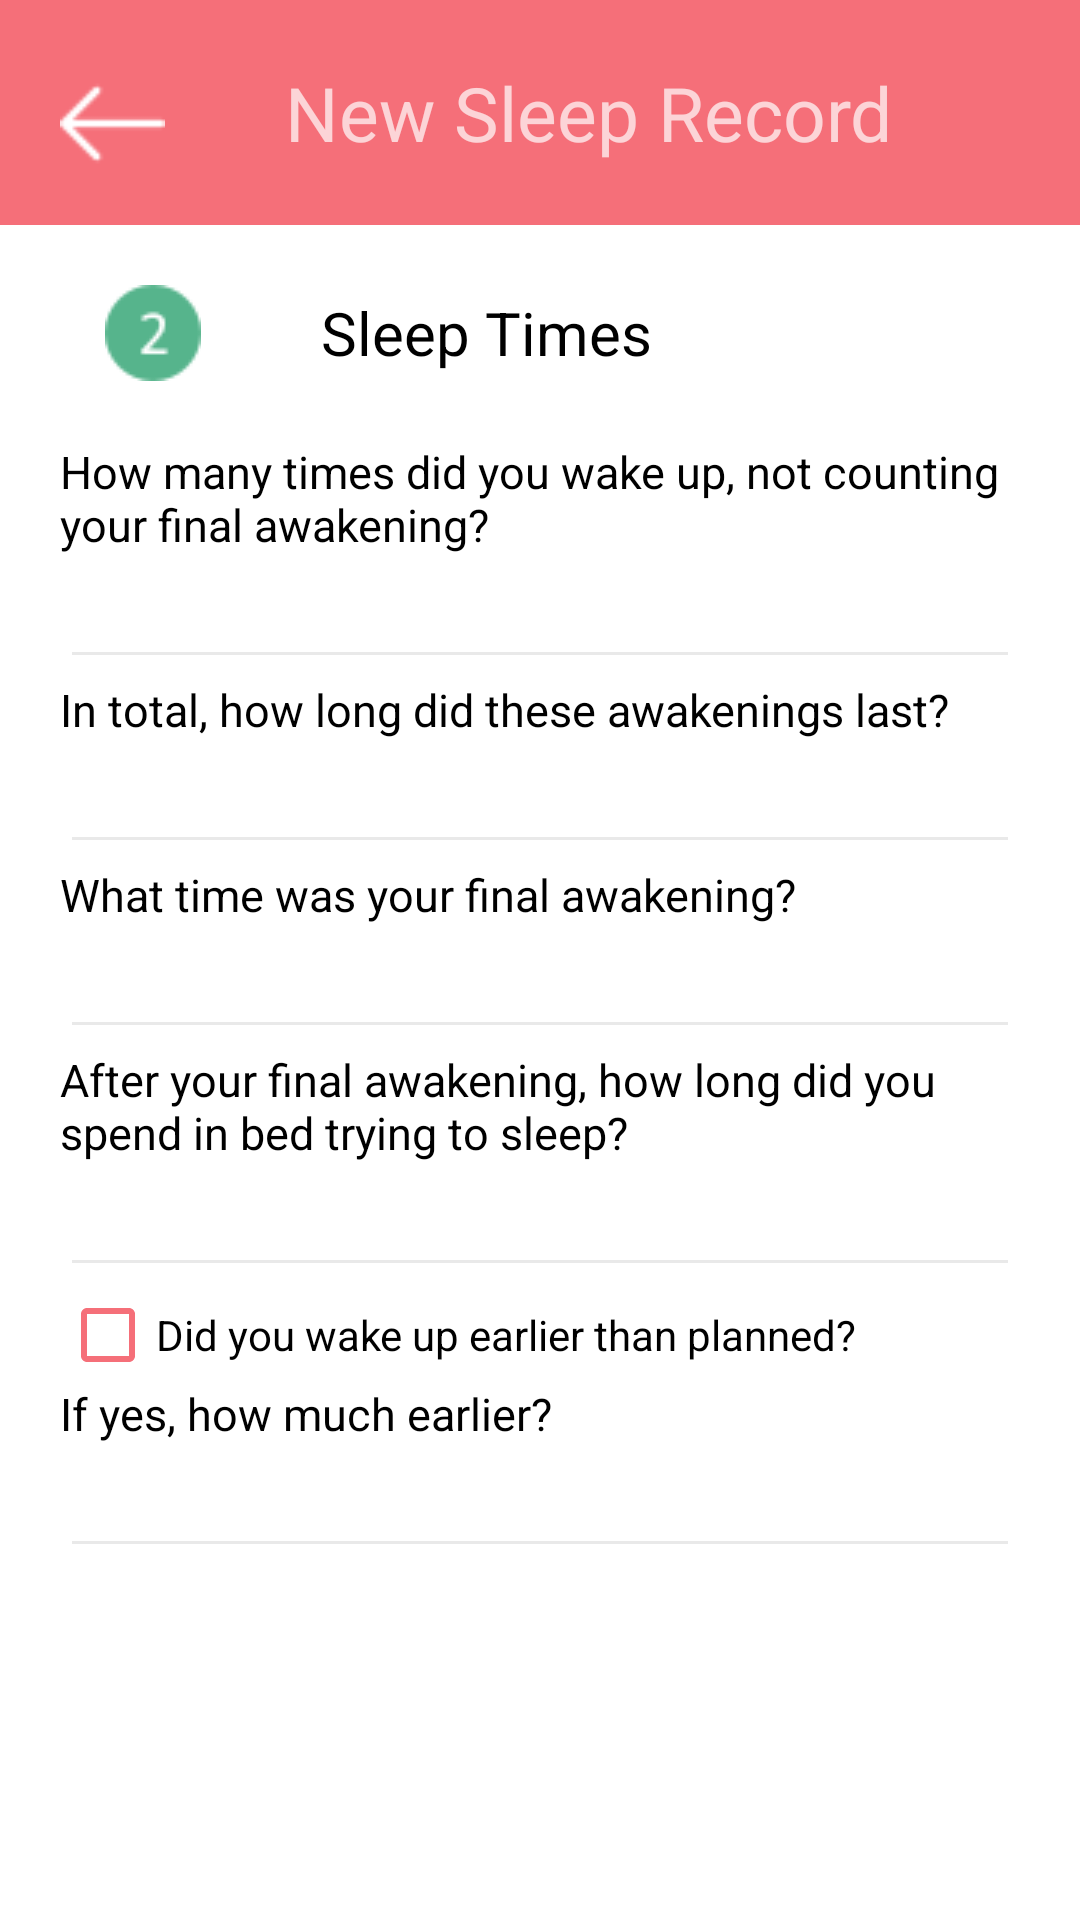

Icons on this 1080px x 1920px Android screen, each with the point to tap as (x=x, y=y):
left arrow: (x=112, y=123)
